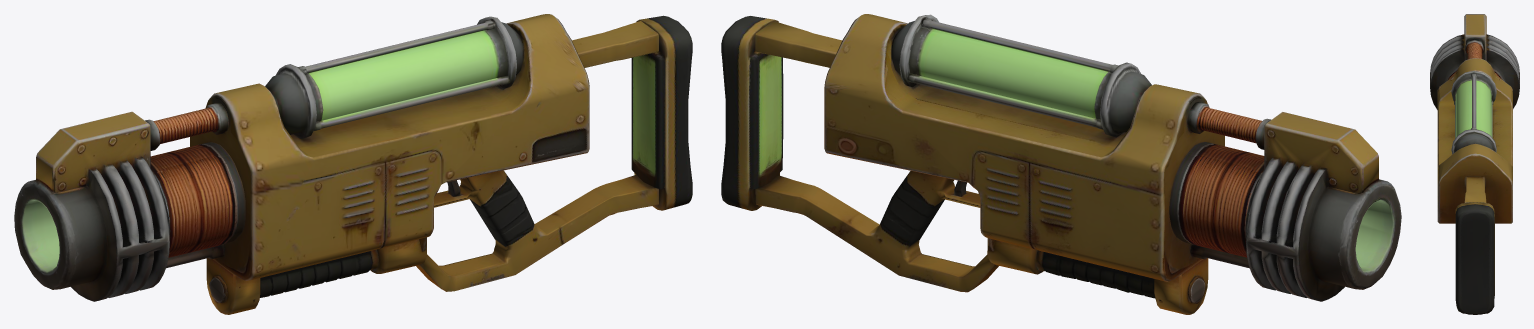
The model's file is asset_pack_item_glb-vd7fm7jh9n4pdmfxcqf3jxeps98c808x-2-ks70rvvck6byad9nzc40525ct58c8w2x.glb.
3 views of the same model, side by side, from view 1: azimuth 30°, elevation 25°; view 2: azimuth 150°, elevation 25°; view 3: azimuth 270°, elevation 25° (orthographic). The views are drawn at different scales.
Parts seen in each view (by area): view 1: Slagthrower Heavy Caster; view 2: Slagthrower Heavy Caster; view 3: Slagthrower Heavy Caster.
Part boxes in pixels (left/top/right/bottom): Slagthrower Heavy Caster: left=14, top=14, right=692, bottom=314; Slagthrower Heavy Caster: left=721, top=14, right=1401, bottom=314; Slagthrower Heavy Caster: left=1430, top=14, right=1519, bottom=314.
Size of the model in its own units: 0.998 by 0.3848 by 0.2051.
1 material, 1 textured.
